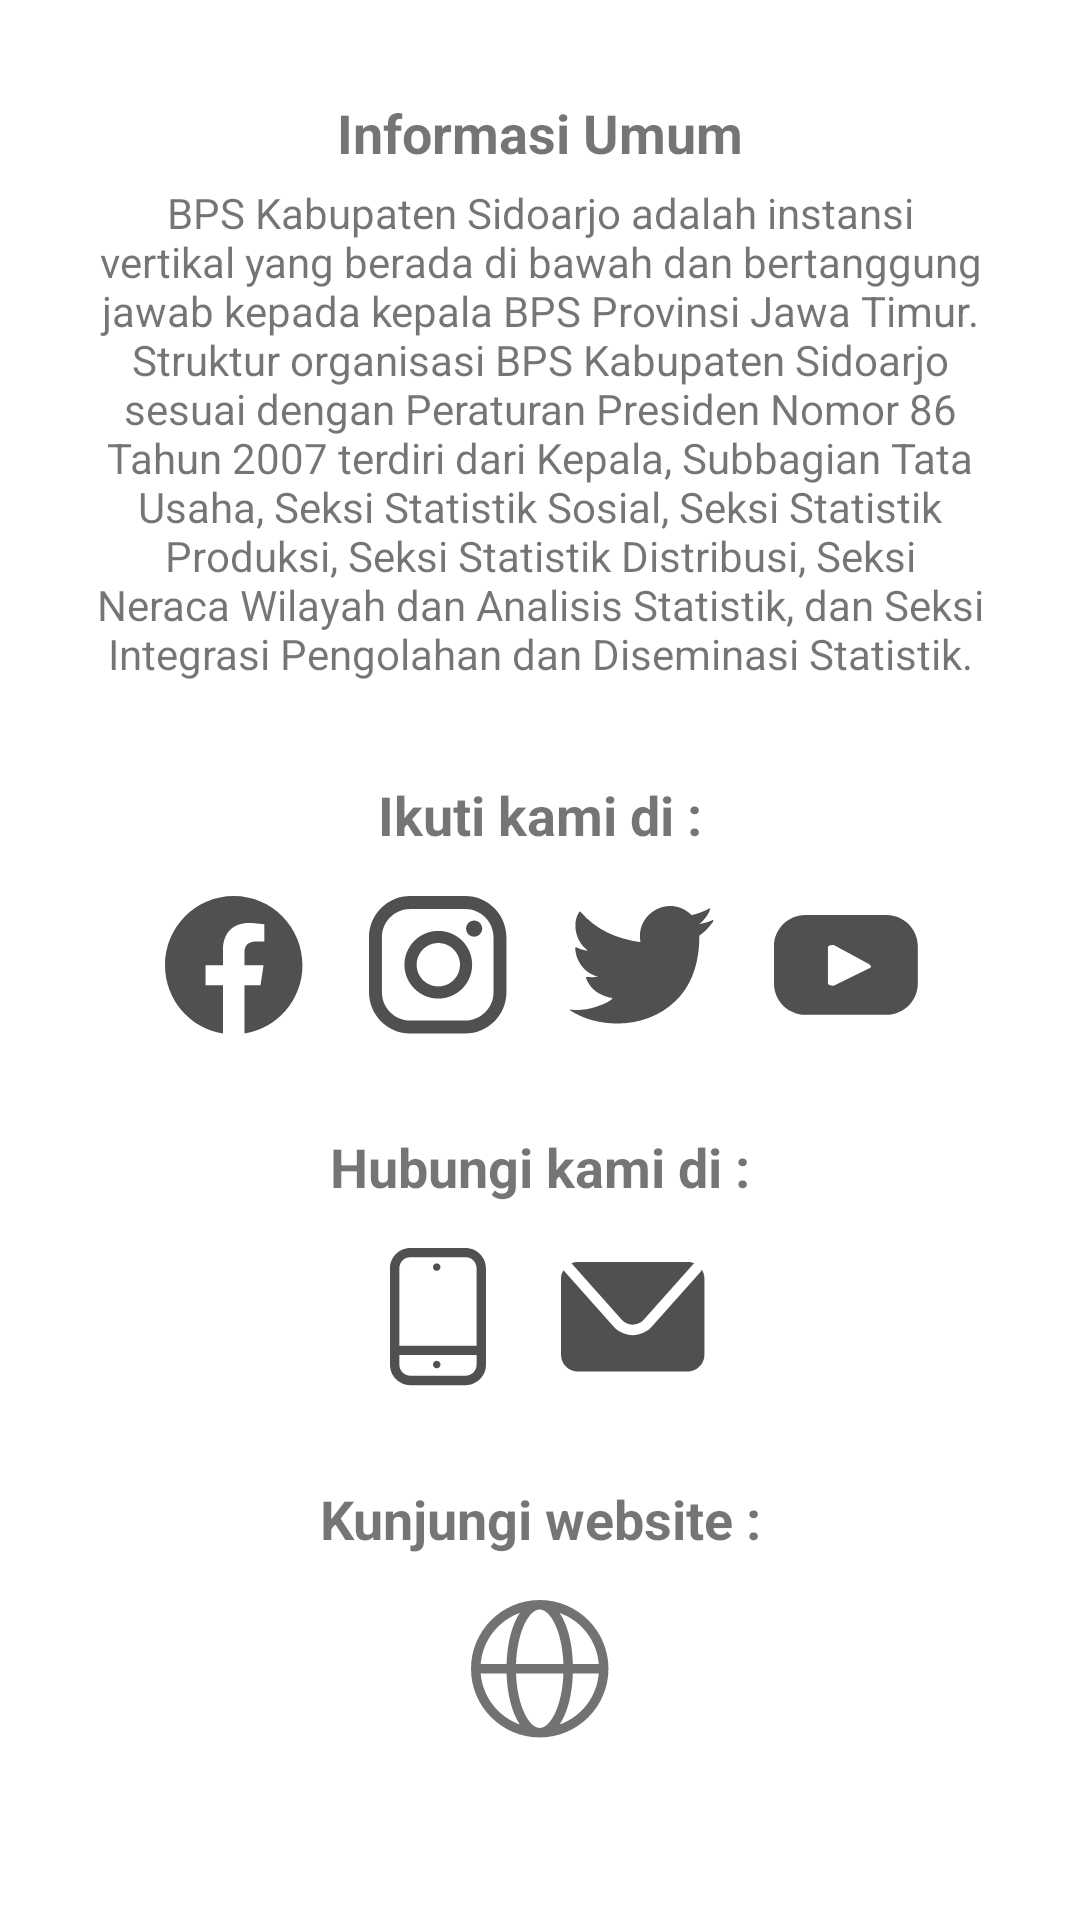

Icon click points for this 1080 × 1920 phone screenshot, format (x,y):
gmail: (633,1317)
phone: (438,1317)
